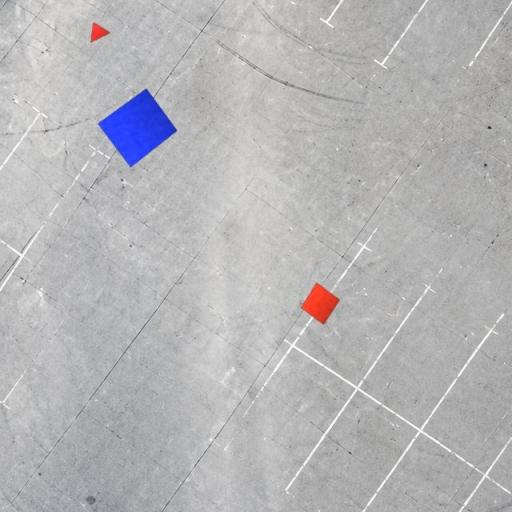BLUE_SQUARE: (97, 87, 178, 168)
RED_SQUARE: (301, 282, 341, 326)
